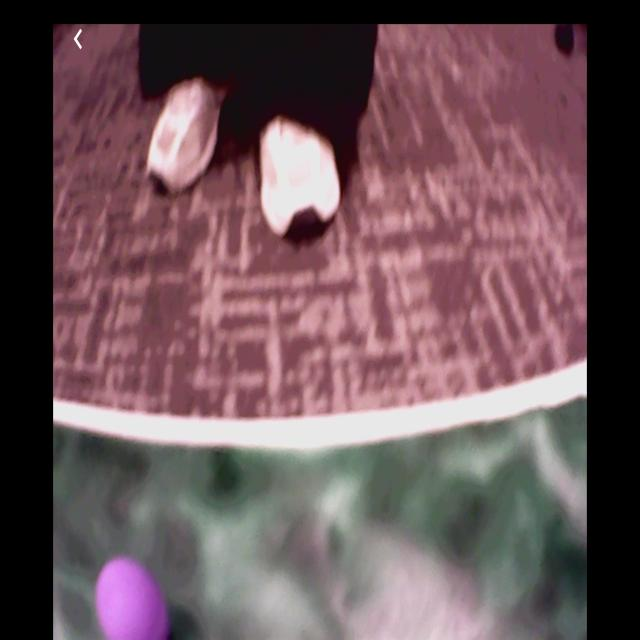ball: (98, 559, 170, 640)
